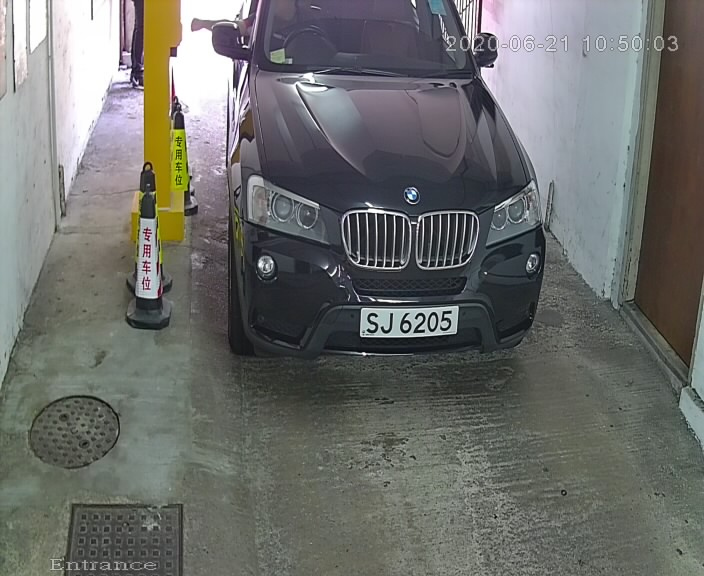privatecar: (204, 1, 558, 384)
